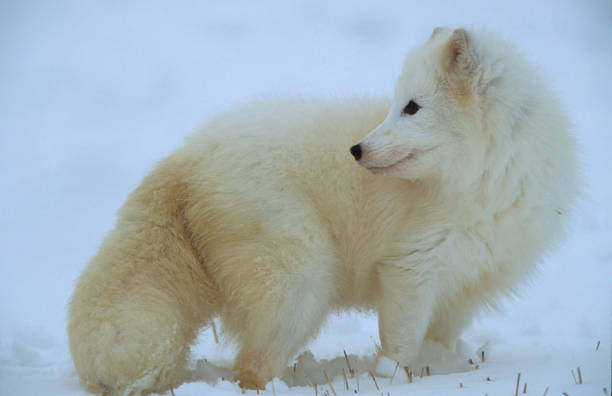arcticfox: (331, 46, 480, 218)
